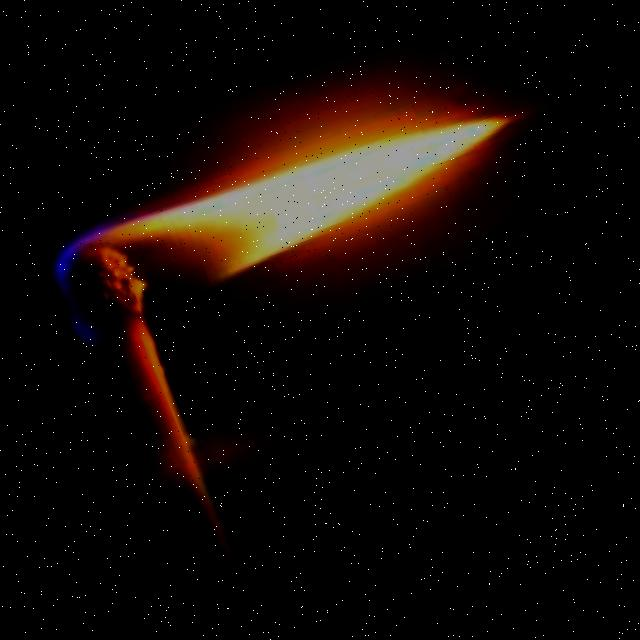Fire: (32, 70, 536, 348)
